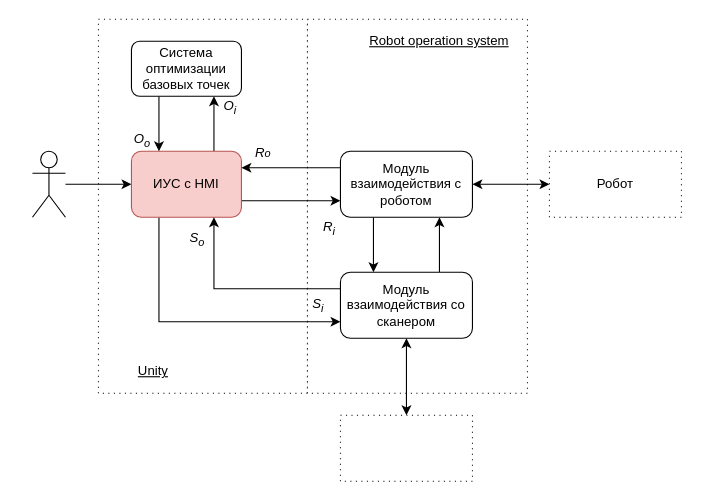
The diagram is 701 pixels wide and 501 high, and some of its shapes have lost their labels. The shapes that lost their labels are listed below. From the top down, each one's centre as x and y in pixels, then its label:
At [48,183]: "Оператор".
At [405,447]: "Сканер".
